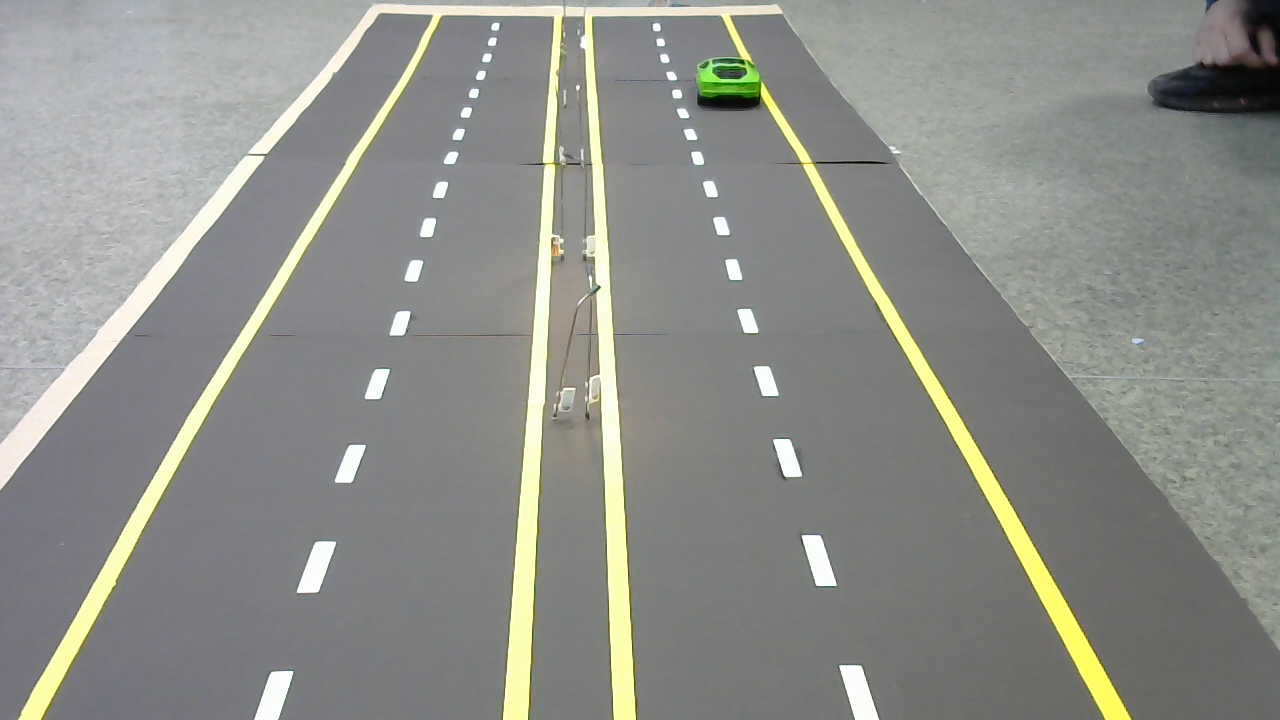back_car: (689, 55, 767, 112)
